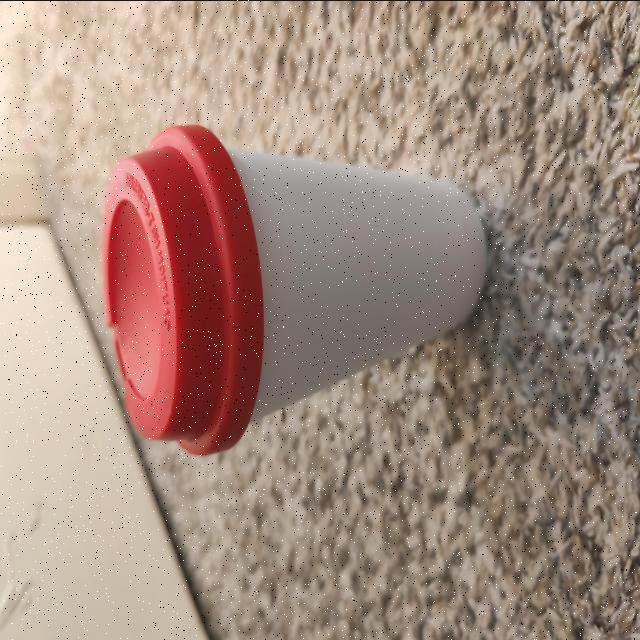mug: (113, 126, 486, 395)
